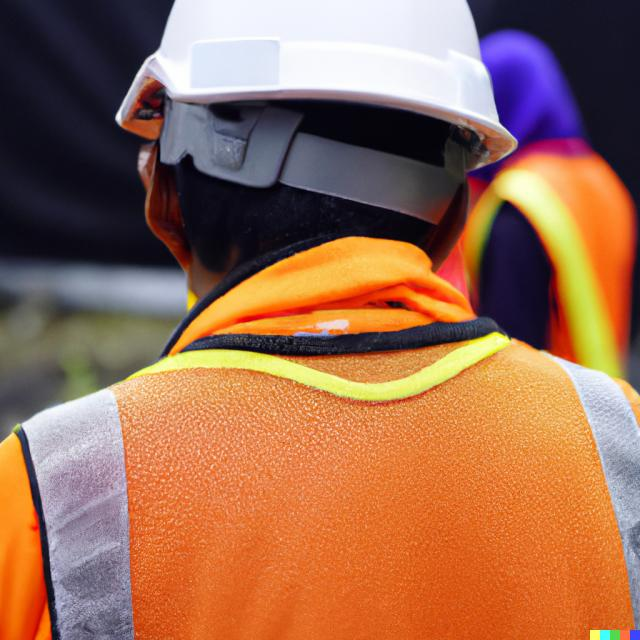Reflective-Jacket: (15, 238, 640, 637), (463, 141, 638, 390)
Safety-Helmet: (135, 3, 518, 148)
